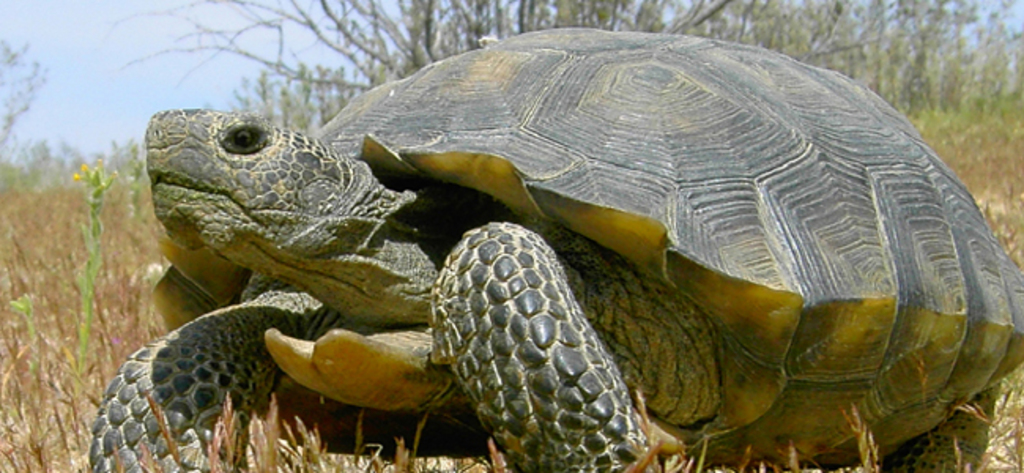Sea turtles: (85, 20, 1022, 471)
